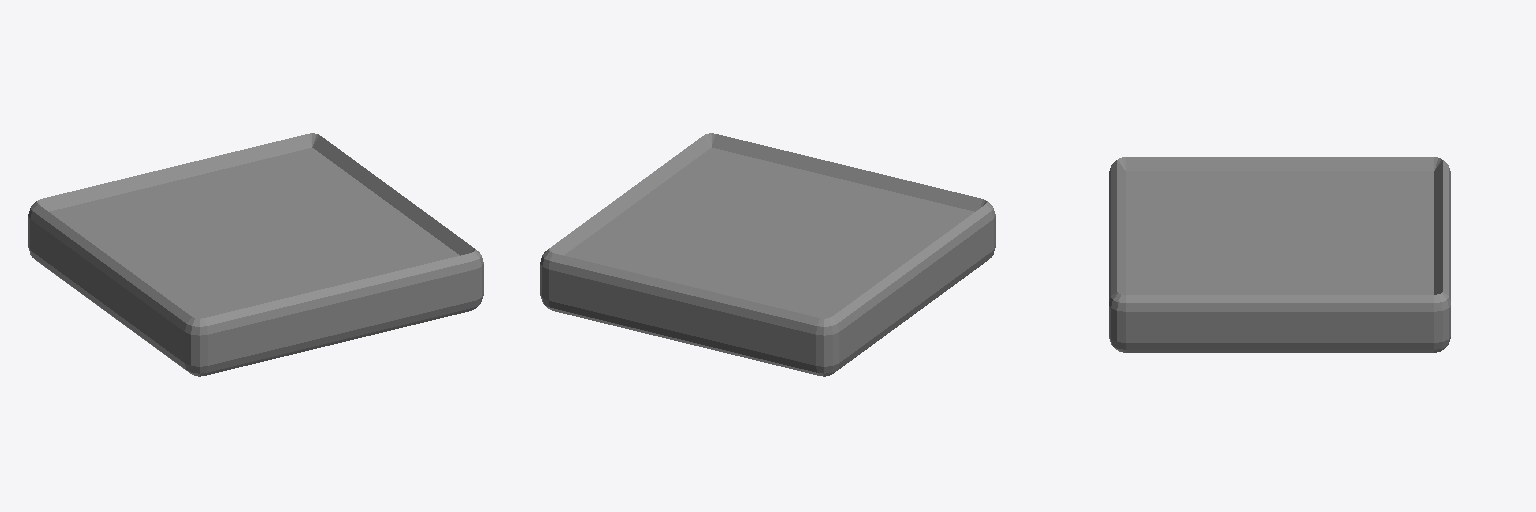
File: displayTile.obj
The picture shows the model from 3 angles: view 1: azimuth 30°, elevation 25°; view 2: azimuth 150°, elevation 25°; view 3: azimuth 270°, elevation 25°; orthographic projection.
Parts seen in each view (by area): view 1: ChamferBox001; view 2: ChamferBox001; view 3: ChamferBox001.
Part boxes in pixels (bbox=[...]): ChamferBox001: bbox=[28, 133, 483, 376]; ChamferBox001: bbox=[540, 133, 995, 376]; ChamferBox001: bbox=[1109, 157, 1450, 352].
Size of the model in its own units: 5 by 0.9666 by 5.